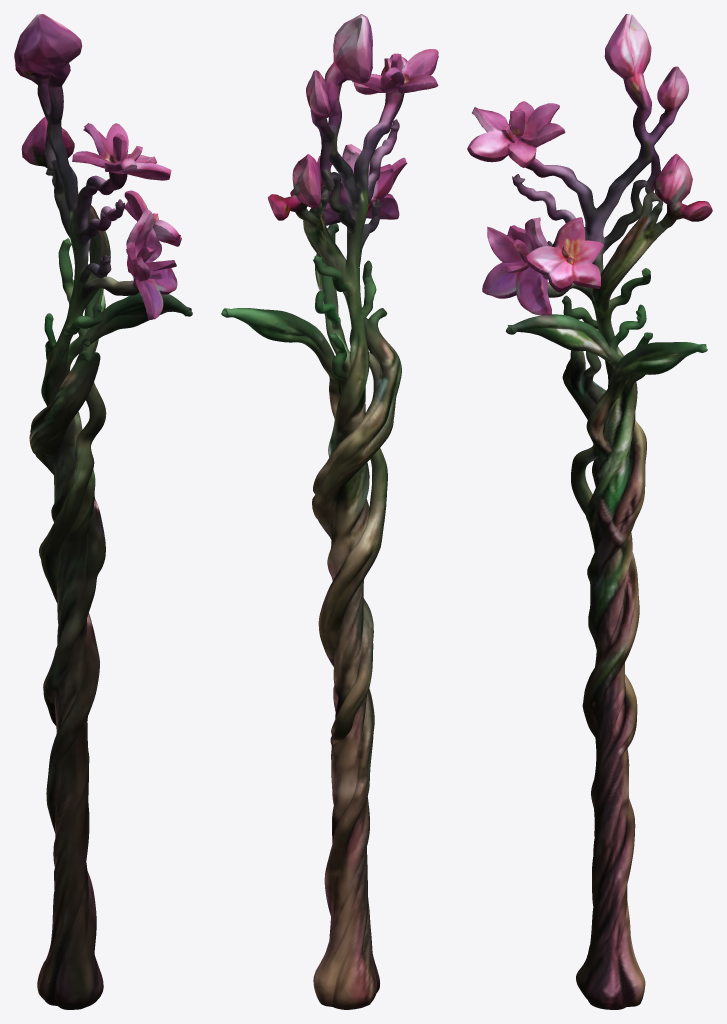
The model's file is staff_fantasy_3.glb.
The picture shows the model from 3 angles, left to right: view 1: azimuth 30°, elevation 25°; view 2: azimuth 150°, elevation 25°; view 3: azimuth 270°, elevation 25°; orthographic projection. The views are drawn at different scales.
Visible parts, largest first — view 1: staff_fantasy_3.glb_3; view 2: staff_fantasy_3.glb_3; view 3: staff_fantasy_3.glb_3.
Part boxes in pixels (x1=…): staff_fantasy_3.glb_3: x1=14, y1=14, x2=192, y2=1009; staff_fantasy_3.glb_3: x1=221, y1=14, x2=438, y2=1009; staff_fantasy_3.glb_3: x1=467, y1=14, x2=712, y2=1009.
Size of the model in its own units: 0.2361 by 1.75 by 0.3986.
1 material, 1 textured.
